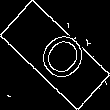O_SW: (23, 22, 87, 88)
